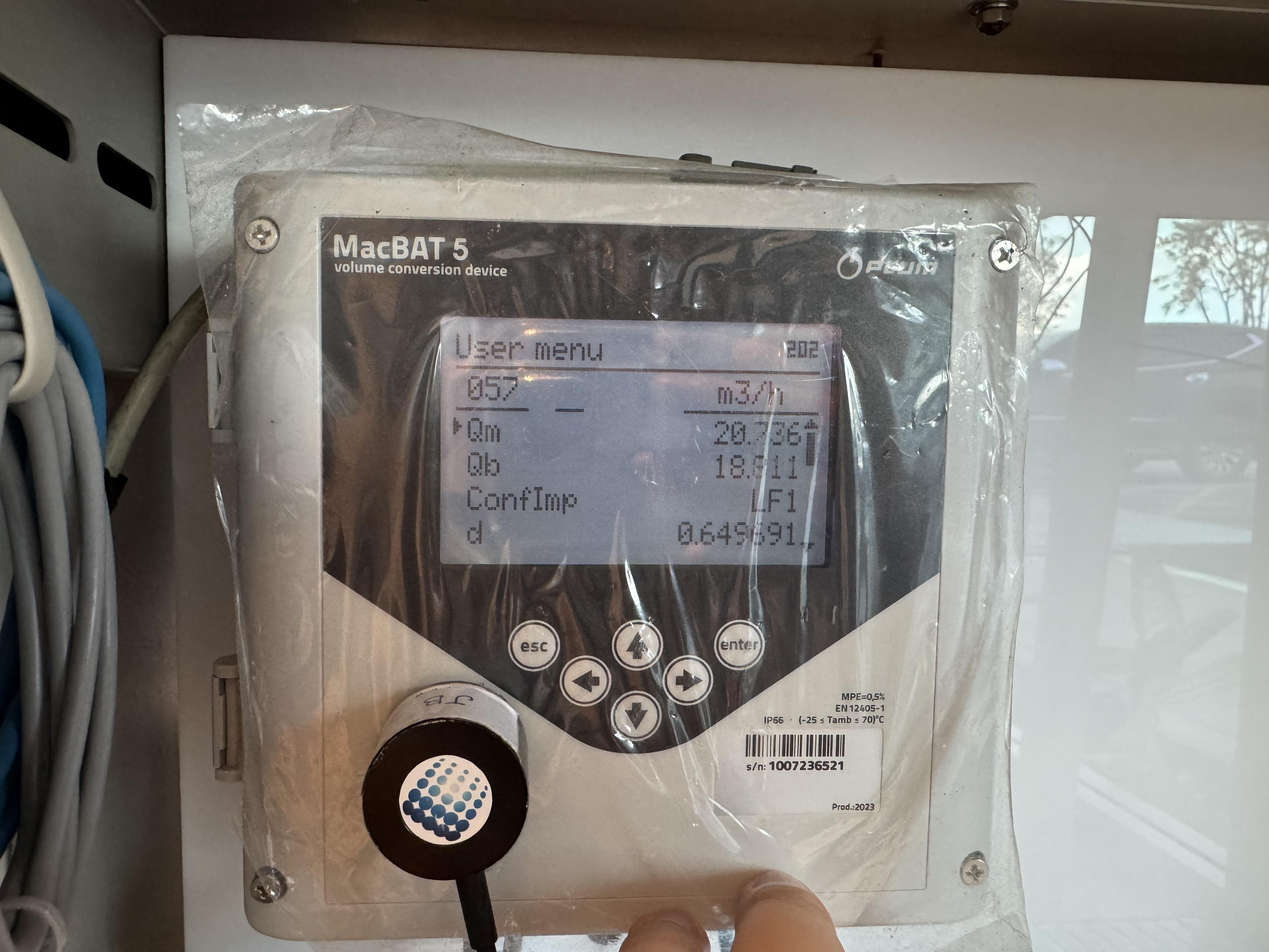digital_screen: (439, 318, 838, 568)
